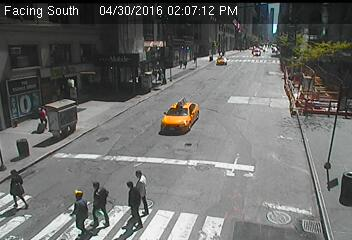neg: (312, 151, 337, 185), (255, 189, 280, 222), (42, 25, 66, 57), (271, 126, 293, 156), (168, 171, 190, 201), (145, 122, 167, 151), (76, 10, 97, 39), (132, 5, 153, 33), (259, 76, 278, 102), (181, 95, 200, 120), (116, 90, 134, 115), (215, 156, 233, 180), (301, 46, 319, 70), (81, 76, 98, 99), (212, 85, 229, 107), (78, 134, 93, 155), (193, 8, 208, 29), (214, 51, 228, 68), (278, 19, 289, 34), (162, 86, 172, 100), (250, 47, 260, 59)
pos: (111, 180, 149, 230), (120, 166, 156, 213), (77, 180, 113, 227), (60, 187, 95, 234), (30, 102, 54, 134), (191, 54, 199, 65), (177, 58, 184, 68), (184, 59, 190, 67)
